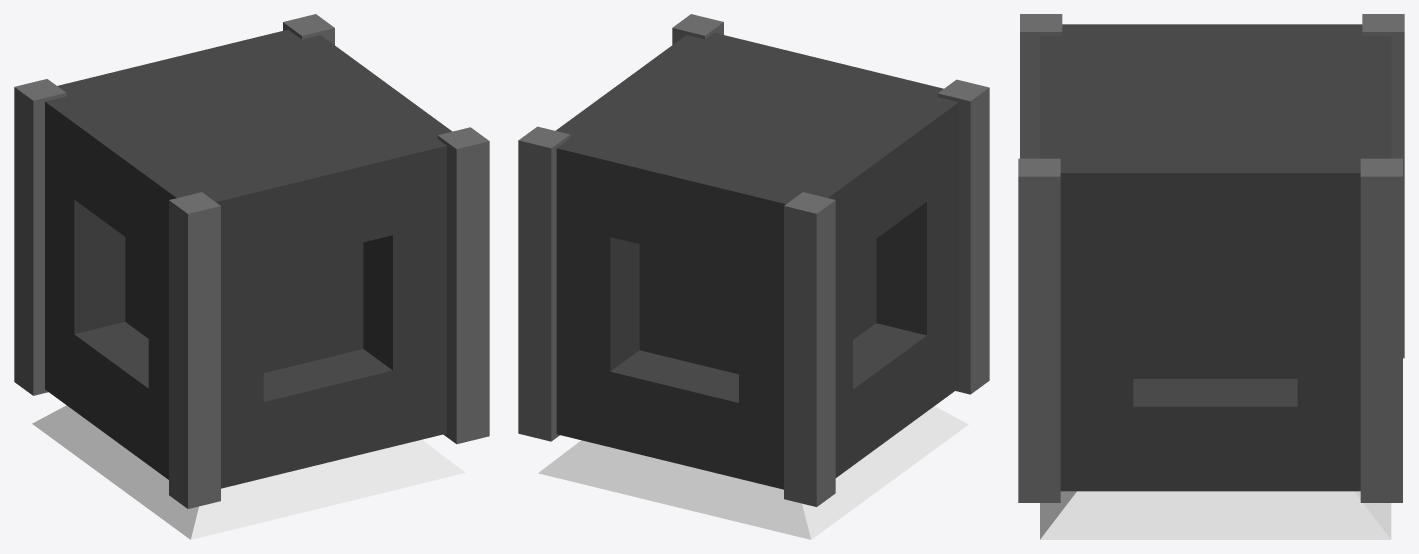
File: laser_thingy.fbx
The picture shows the model from 3 angles, left to right: view 1: azimuth 30°, elevation 25°; view 2: azimuth 150°, elevation 25°; view 3: azimuth 270°, elevation 25°; orthographic projection. The views are drawn at different scales.
Parts seen in each view (by area): view 1: Cube, Cube.001; view 2: Cube, Cube.001; view 3: Cube, Cube.001.
Boxes of the visible parts, left/top/right/bottom form: Cube: left=14, top=14, right=489, bottom=508; Cube.001: left=32, top=405, right=465, bottom=539; Cube: left=518, top=14, right=989, bottom=506; Cube.001: left=538, top=406, right=968, bottom=539; Cube: left=1018, top=14, right=1404, bottom=502; Cube.001: left=1040, top=491, right=1391, bottom=539.
Bounding box in the file's own units: 219 × 233 × 220.
